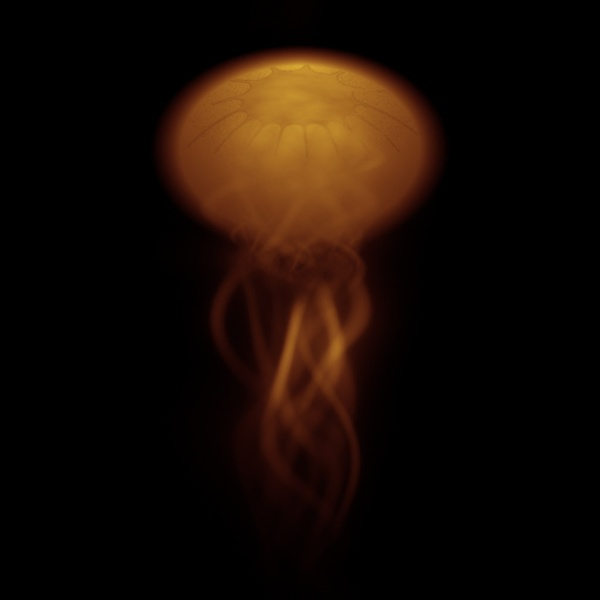Jellyfish: (158, 45, 433, 544)
